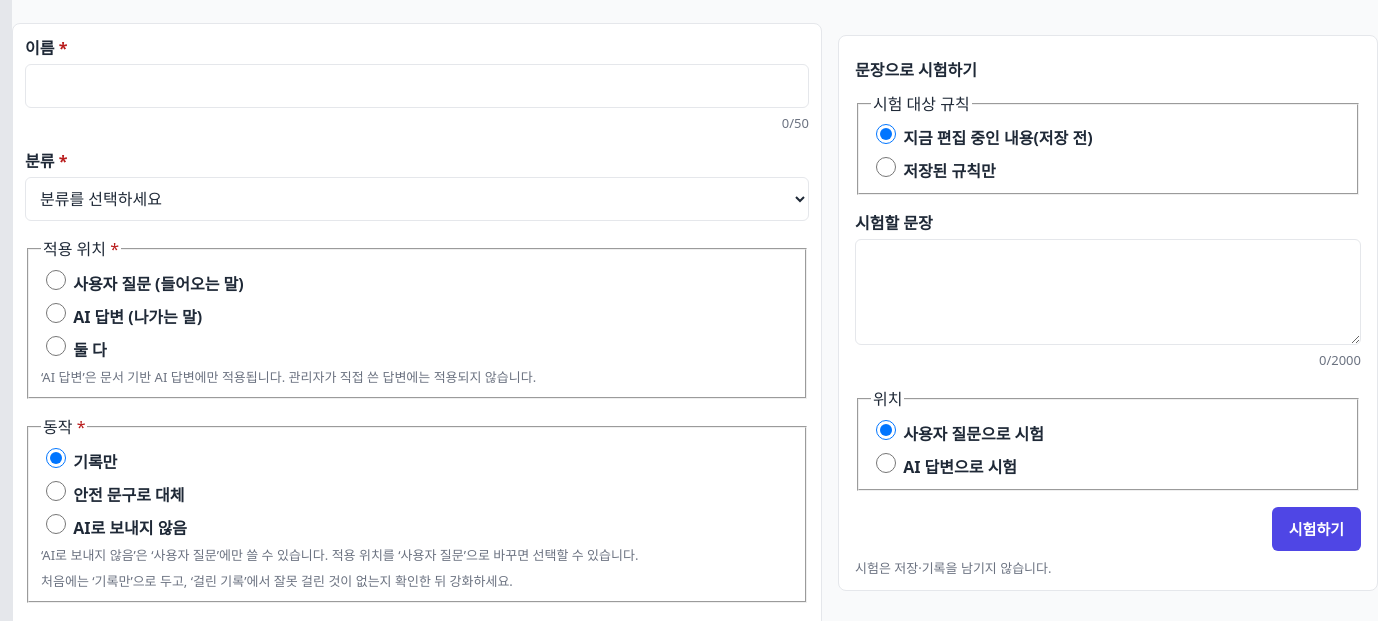
Test case: GR-2 규칙 만들기 › 대체 문구는 동작이 대체일 때만 켜지고 안내(위젯 표시·입구 반복)를 조건부로 보인다
Step 1. Click the radio button labelled "둘 다" → coordinates (56, 346), box [46,336,66,356]
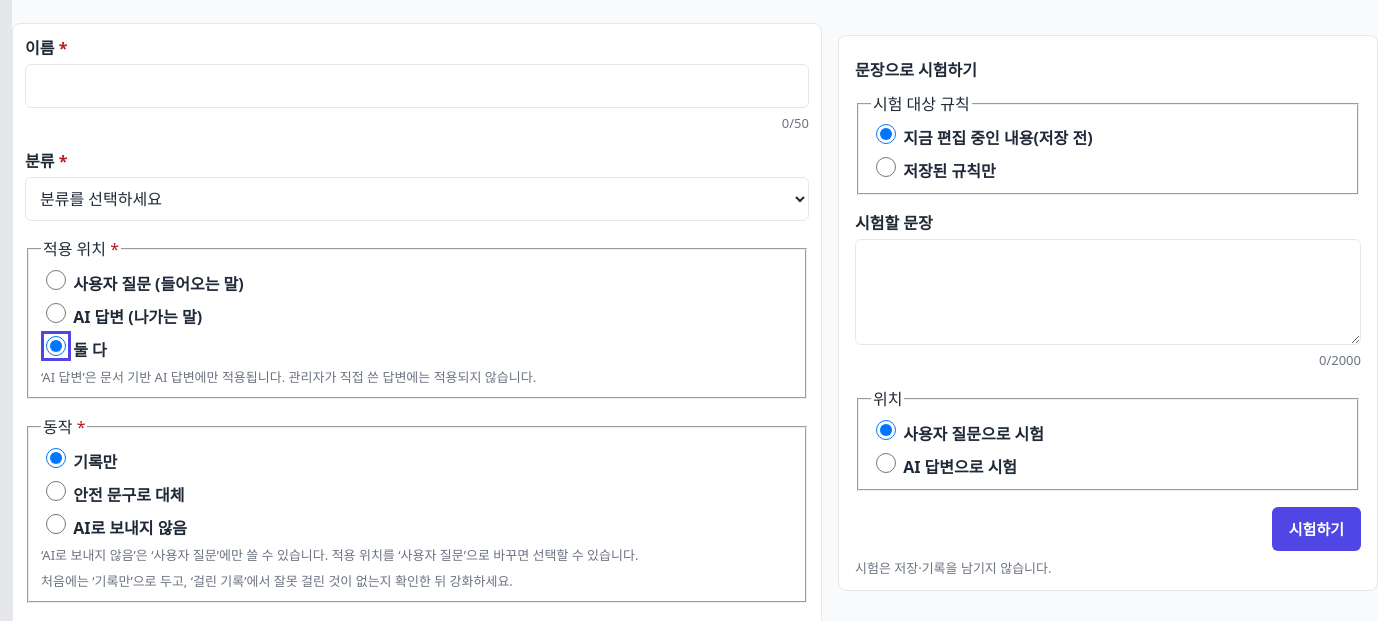
Step 2. Click the radio button labelled "안전 문구로 대체" → coordinates (56, 491), box [46,481,66,501]
(page scrolled)
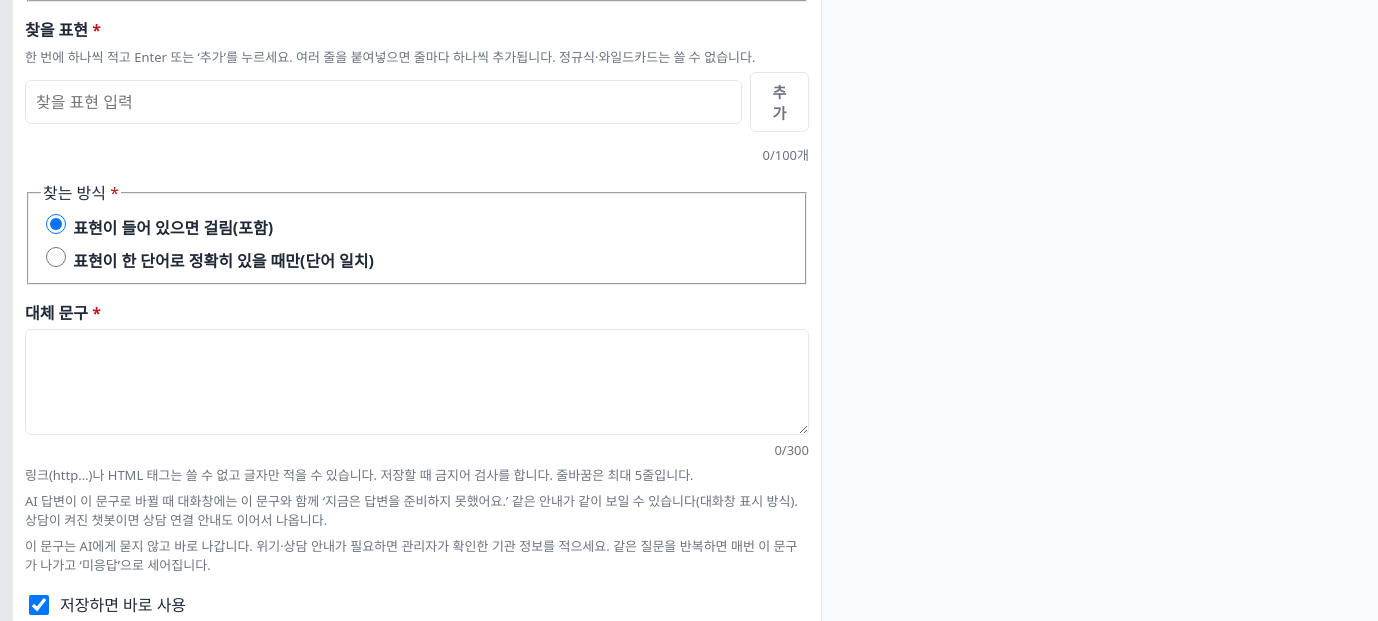
Check: the text "지금은 답변을 준비하지 못했어요" is shown, box [25,492,798,529]
Check: the text "‘미응답’으로 세어집니다" is shown, box [25,537,798,574]
Step 3. Type "안내" into the text box labelled "대체 문구 *" → coordinates (417, 382), box [25,329,809,435]
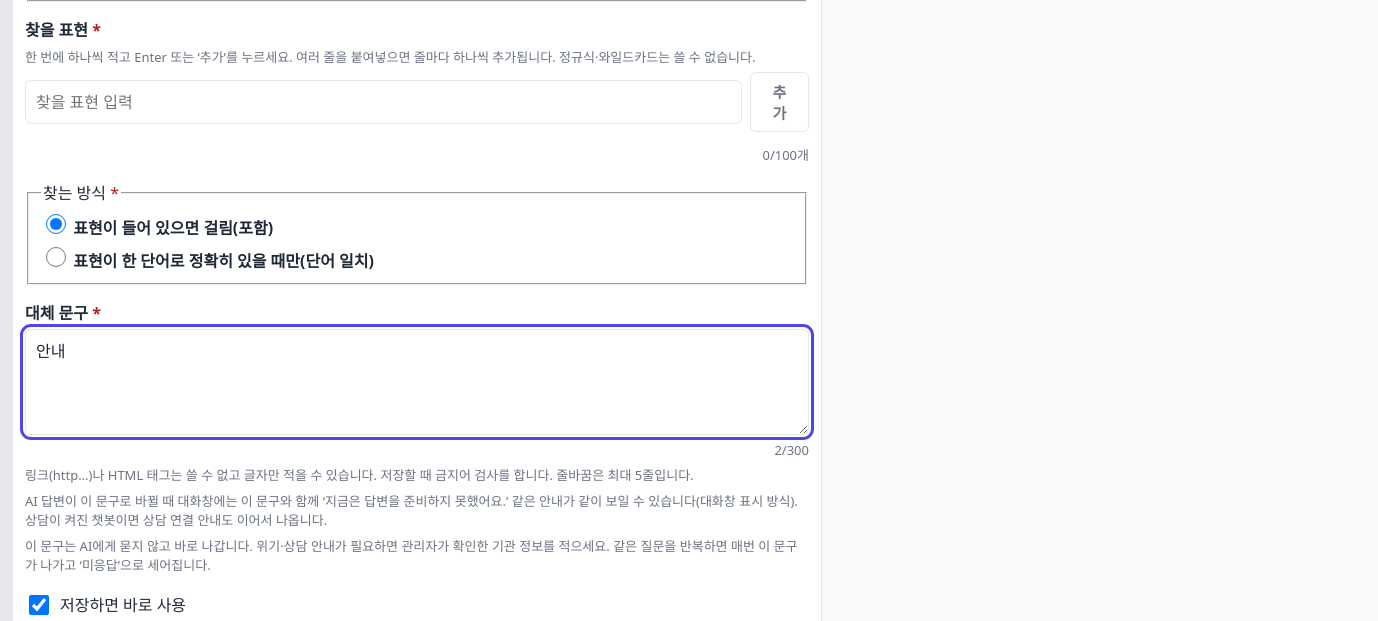
Check: the text "2/300" is shown, box [774,441,809,459]
